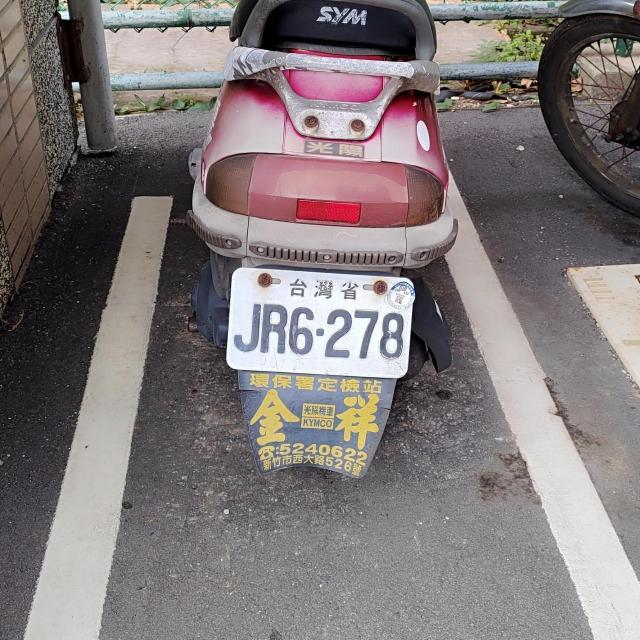W: (226, 266, 416, 378)
